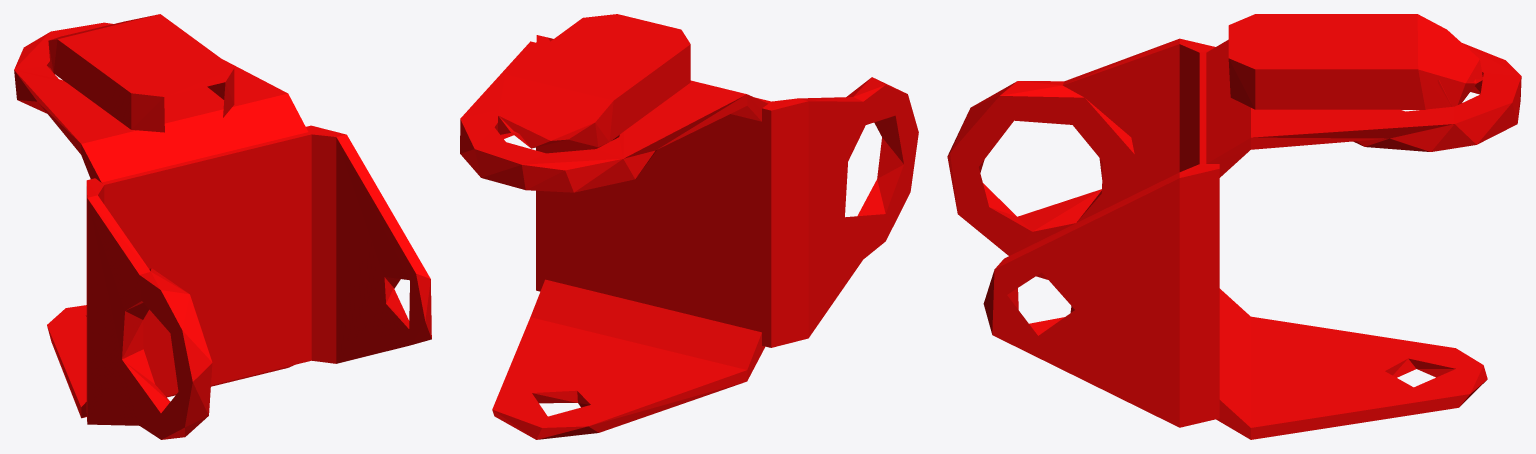
Rendered from warec-FL_HIP_R-visual-0.dae.
The picture shows the model from 3 angles, left to right: view 1: azimuth 30°, elevation 25°; view 2: azimuth 150°, elevation 25°; view 3: azimuth 270°, elevation 25°; orthographic projection. The views are drawn at different scales.
Parts seen in each view (by area): view 1: root; view 2: root; view 3: root.
Part boxes in pixels (x1,y1,x2,y2): root: (14,14,431,439); root: (460,14,918,439); root: (947,14,1521,439).
Size of the model in its own units: 0.1485 by 0.17 by 0.2582.
